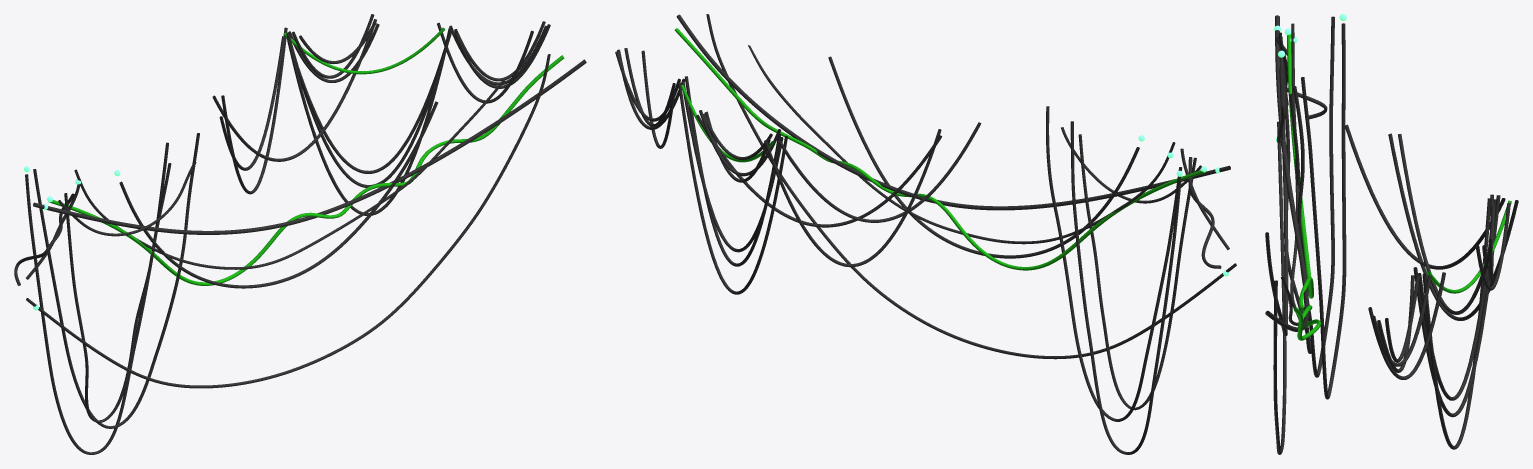
The model's file is wire.glb.
The picture shows the model from 3 angles, left to right: view 1: azimuth 30°, elevation 25°; view 2: azimuth 150°, elevation 25°; view 3: azimuth 270°, elevation 25°; orthographic projection. The views are drawn at different scales.
Parts seen in each view (by area): view 1: Catenary.029_Catenary.005, Cylinder.026, Cylinder.008, Cylinder.027, Cylinder.010, Cylinder.011, Cylinder.009, Cylinder.028, Cylinder.012, Cylinder.003; view 2: Catenary.029_Catenary.005, Cylinder.026, Cylinder.027, Cylinder.011, Cylinder.008, Cylinder.010, Cylinder.009, Cylinder.028, Cylinder.012; view 3: Catenary.029_Catenary.005, Cylinder.011, Cylinder.010, Cylinder.008, Cylinder.026, Cylinder.027, Cylinder.028, Cylinder.009, Cylinder.012, Cylinder.004, Cylinder.003.
Part boxes in pixels (x1,y1,x2,y2): Catenary.029_Catenary.005: (212, 14, 550, 215); Cylinder.026: (33, 59, 586, 234); Cylinder.008: (26, 54, 550, 388); Cylinder.027: (48, 55, 564, 285); Cylinder.010: (33, 133, 199, 428); Cylinder.011: (25, 142, 168, 454); Cylinder.009: (64, 163, 171, 422); Cylinder.028: (119, 101, 438, 288); Cylinder.012: (74, 80, 504, 269); Cylinder.003: (58, 161, 196, 236); Catenary.029_Catenary.005: (615, 48, 981, 294); Cylinder.026: (676, 14, 1230, 210); Cylinder.027: (674, 28, 1204, 270); Cylinder.011: (1070, 121, 1181, 454); Cylinder.008: (706, 14, 1236, 359); Cylinder.010: (1046, 106, 1182, 421); Cylinder.009: (1078, 134, 1196, 410); Cylinder.028: (828, 56, 1139, 258); Cylinder.012: (748, 45, 1175, 244); Catenary.029_Catenary.005: (1344, 124, 1518, 449); Cylinder.011: (1301, 23, 1346, 399); Cylinder.010: (1293, 16, 1334, 377); Cylinder.008: (1273, 121, 1286, 454); Cylinder.026: (1265, 15, 1309, 331); Cylinder.027: (1287, 34, 1321, 340); Cylinder.028: (1265, 68, 1288, 336); Cylinder.009: (1278, 32, 1311, 353); Cylinder.012: (1280, 23, 1298, 325); Cylinder.004: (1275, 37, 1327, 119); Cylinder.003: (1276, 36, 1285, 143).
Bounding box in the file's own units: 2.69 × 1.41 × 0.8911.
